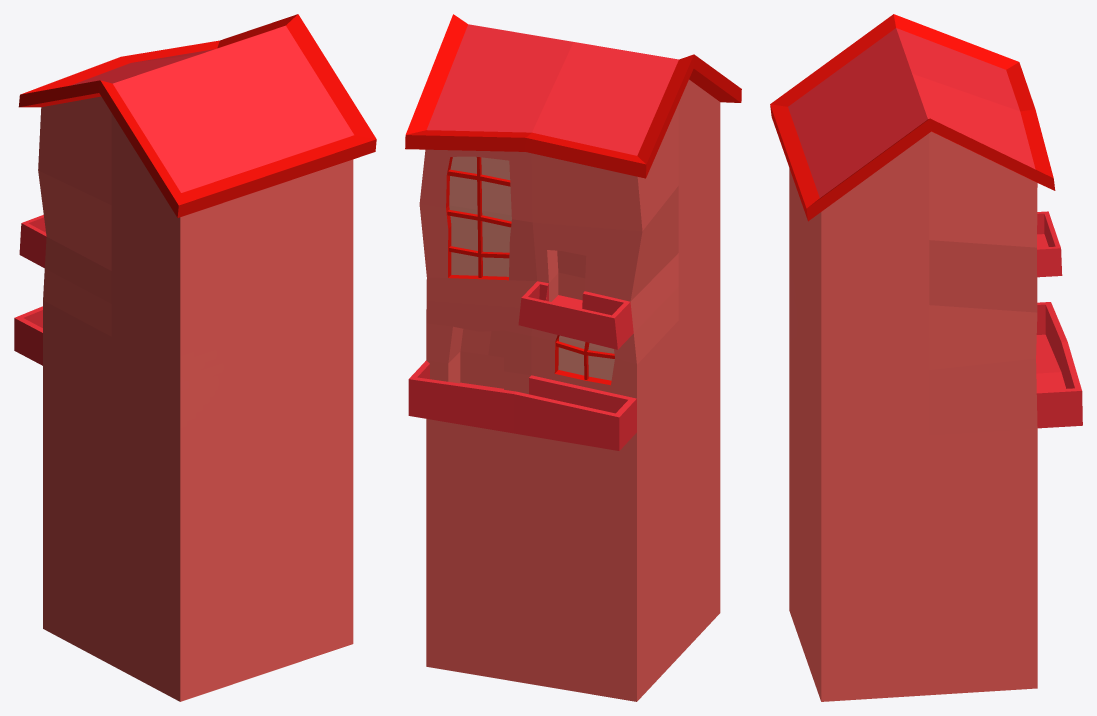
File: edificio3.fbx
The picture shows the model from 3 angles, left to right: view 1: azimuth 30°, elevation 25°; view 2: azimuth 150°, elevation 25°; view 3: azimuth 270°, elevation 25°; orthographic projection. The views are drawn at different scales.
Parts seen in each view (by area): view 1: edificio3; view 2: edificio3; view 3: edificio3.
Boxes of the visible parts, x1,y1,x2,y2 form: edificio3: [14, 14, 376, 701]; edificio3: [405, 14, 741, 701]; edificio3: [770, 14, 1082, 701].
Bounding box in the file's own units: 3808 × 8594 × 4176.
